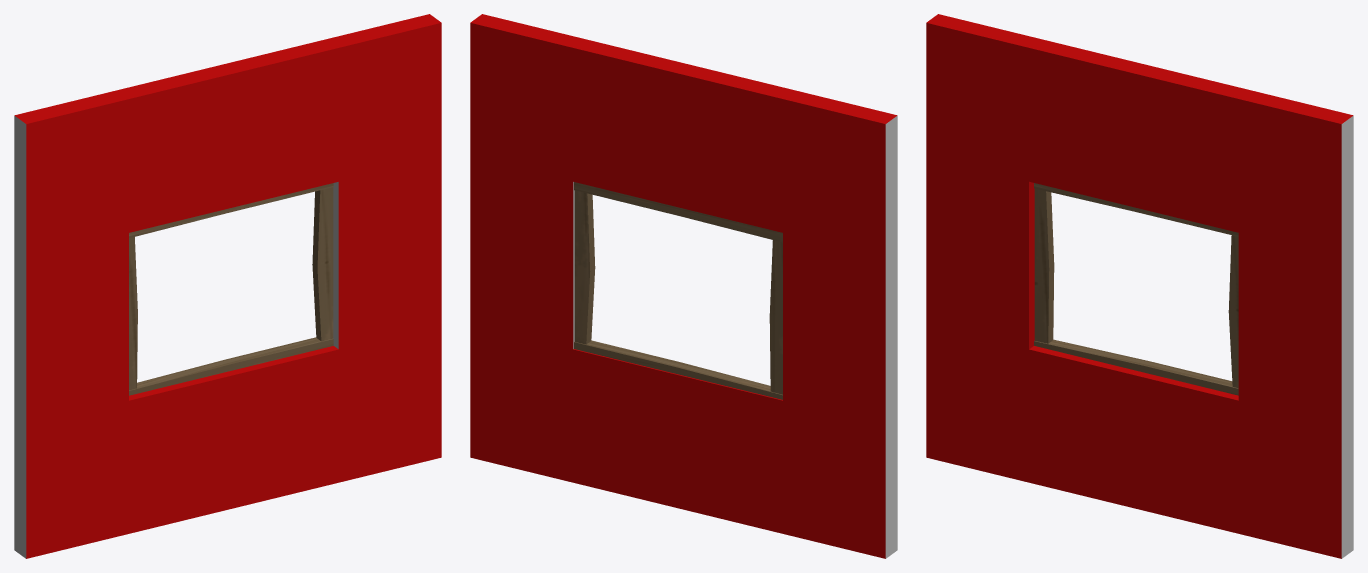
Rendered from Wall_Window.fbx.
3 views of the same model, side by side, from view 1: azimuth 30°, elevation 25°; view 2: azimuth 150°, elevation 25°; view 3: azimuth 330°, elevation 25° (orthographic).
Visible parts, largest first — view 1: Wall_Window; view 2: Wall_Window; view 3: Wall_Window.
Boxes of the visible parts, box(x1,y1,x2,y2) form: Wall_Window: box(14, 14, 441, 558); Wall_Window: box(470, 14, 897, 558); Wall_Window: box(926, 14, 1353, 558).
Bounding box in the file's own units: 536 × 536 × 26.79.
